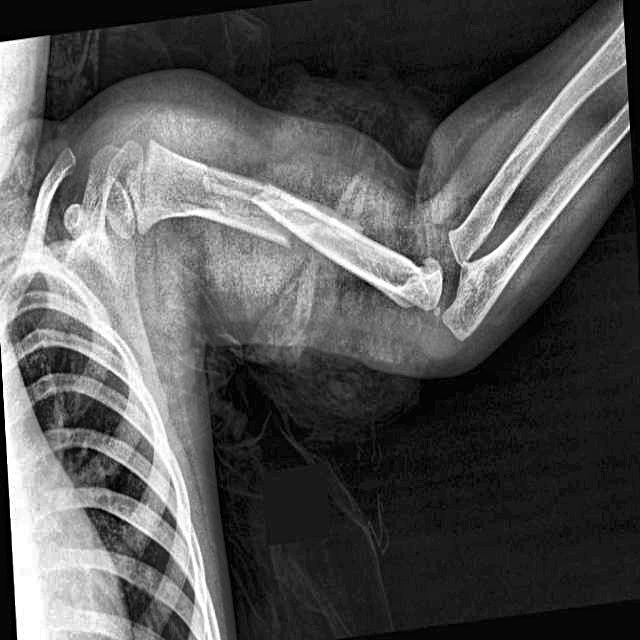Transverse: (237, 165, 321, 268)
